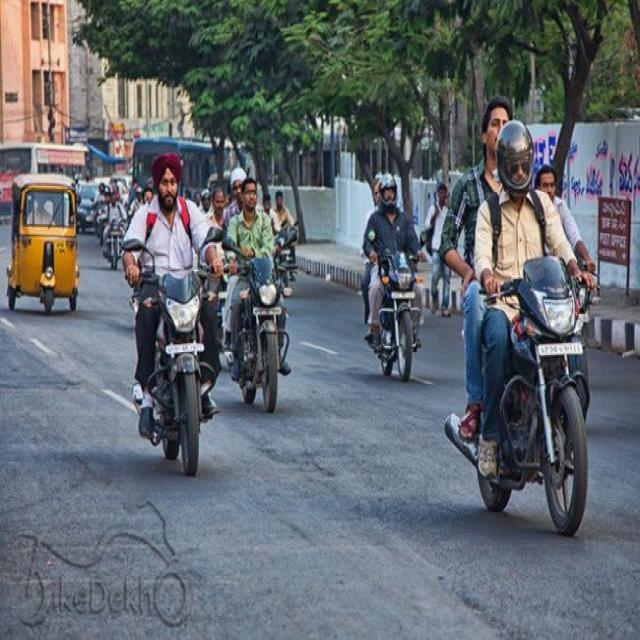bike: (478, 264, 598, 547), (118, 233, 226, 474), (364, 236, 436, 386)
rikshaw: (5, 159, 88, 326)
